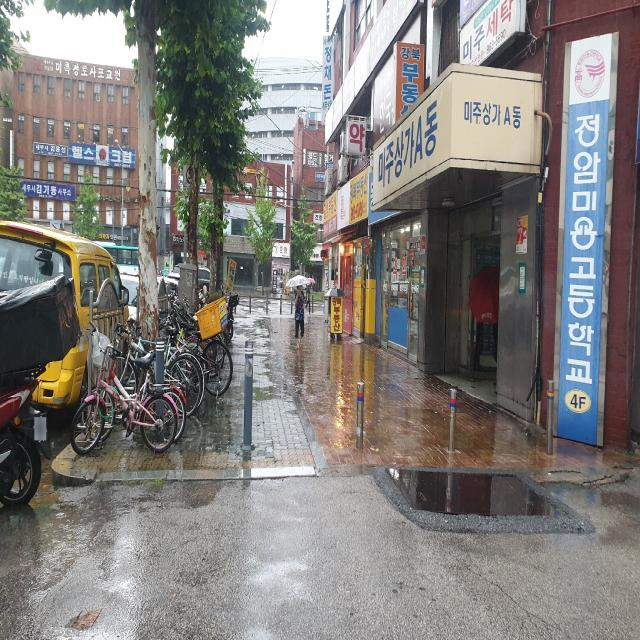car: (0, 219, 130, 413)
motorbike: (0, 276, 80, 508)
